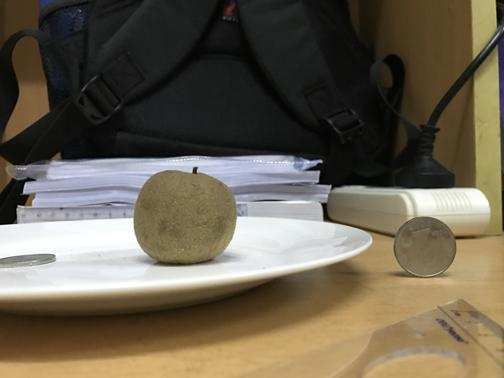coin: (393, 216, 456, 279)
qiwi: (132, 170, 237, 262)
